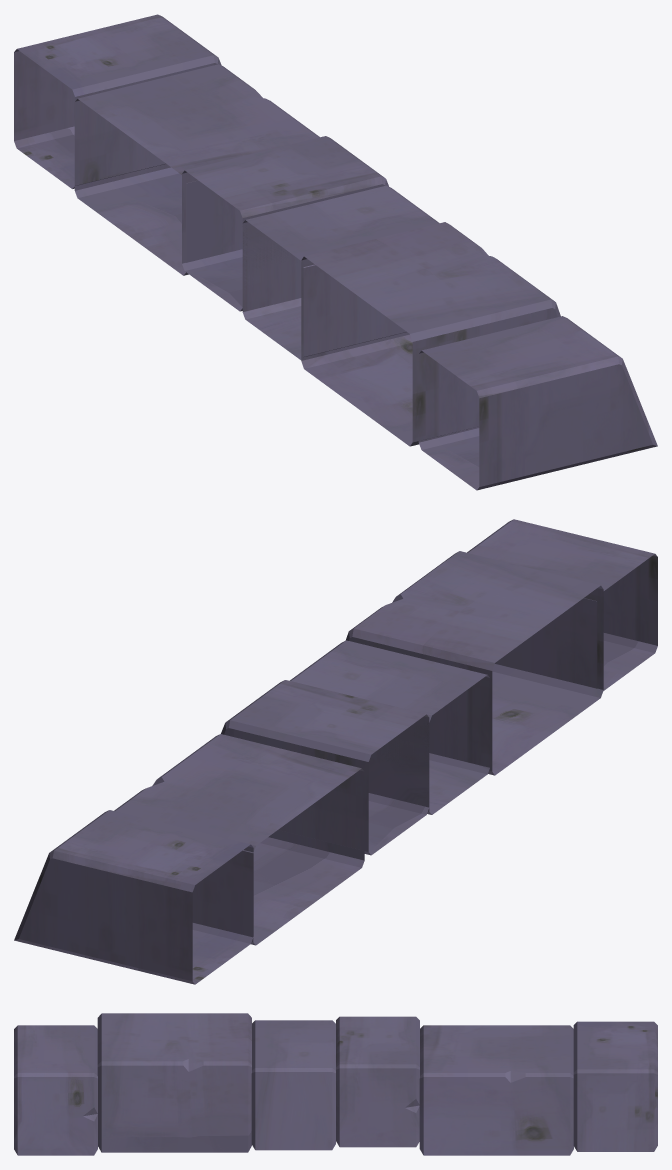
The model's file is Step_Bot_01.fbx.
3 renders of one model, top to bottom at view 1: azimuth 30°, elevation 25°; view 2: azimuth 150°, elevation 25°; view 3: azimuth 270°, elevation 25°, orthographic. The views are drawn at different scales.
Parts seen in each view (by area): view 1: Step_Bot_01; view 2: Step_Bot_01; view 3: Step_Bot_01.
Part boxes in pixels (bbox=[...]): Step_Bot_01: bbox=[14, 14, 657, 490]; Step_Bot_01: bbox=[14, 519, 657, 984]; Step_Bot_01: bbox=[14, 1013, 657, 1155].
Size of the model in its own units: 93.05 by 53.93 by 400.
